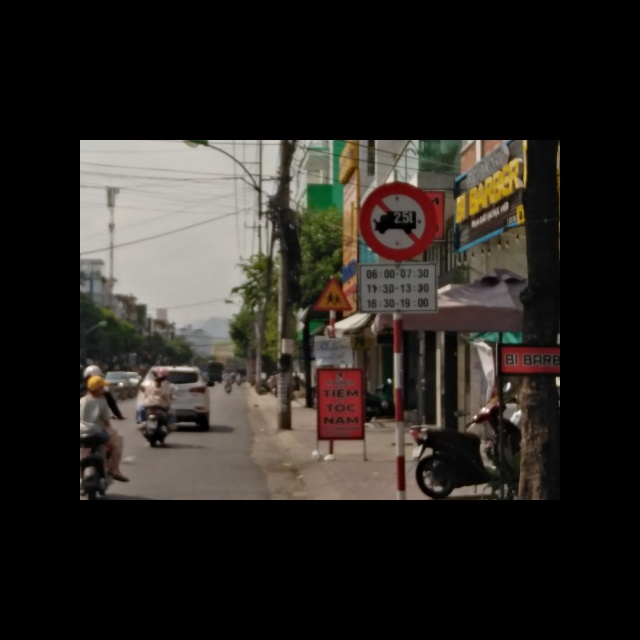Cấm xe tải: (358, 181, 438, 261)
Trẻ em ngang qua: (312, 274, 353, 311)
